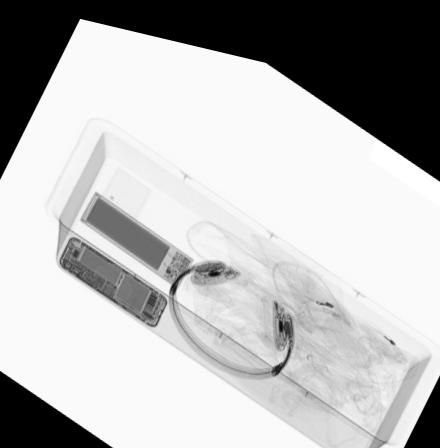Powerbank: (77, 185, 193, 280)
